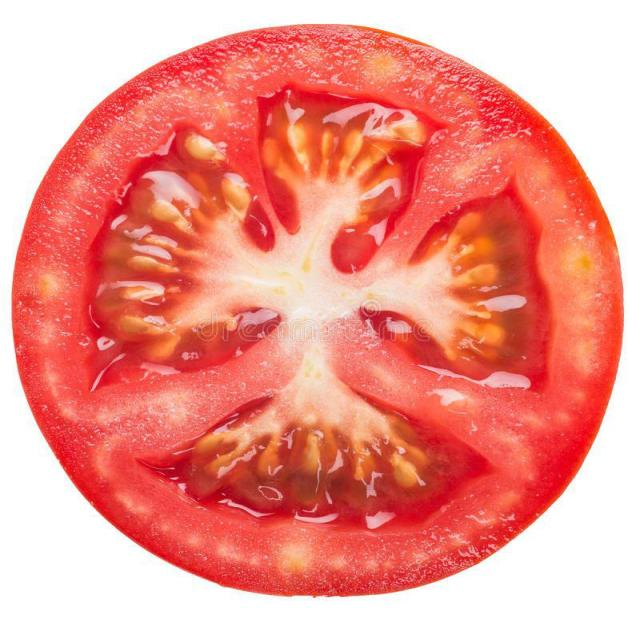Tomato: (21, 25, 634, 605)
